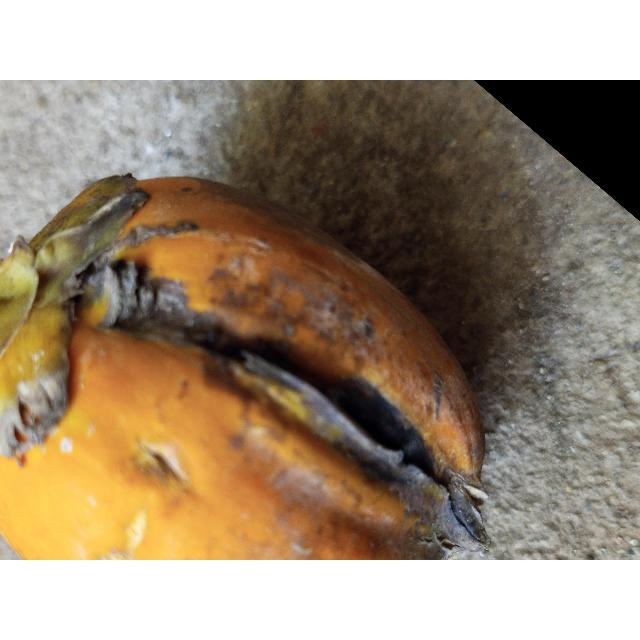damaged: (0, 175, 487, 560)
